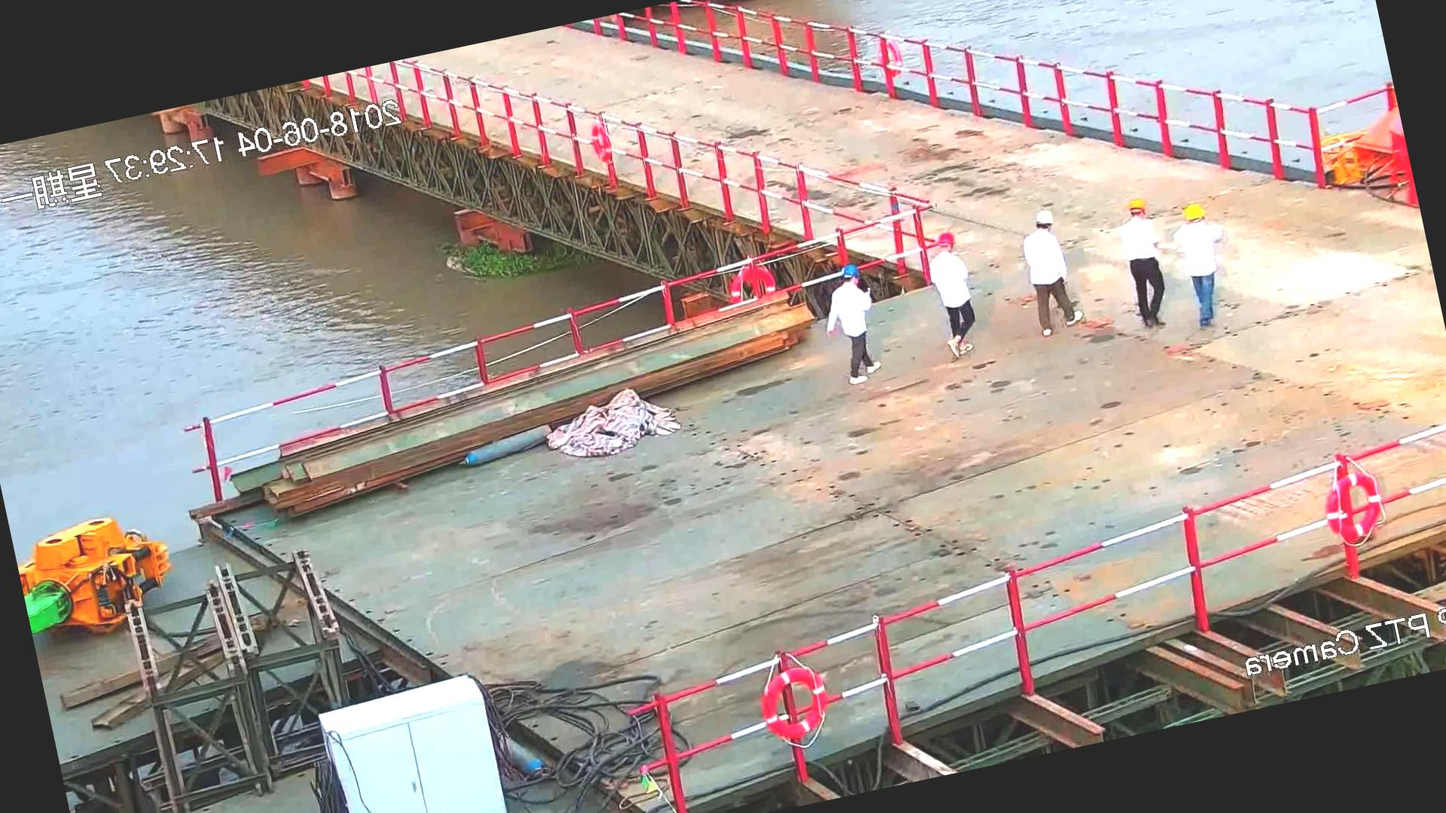helmet: (1116, 185, 1156, 224), (1175, 193, 1213, 232), (1026, 205, 1068, 235), (926, 227, 964, 260)
no_vest: (823, 276, 882, 347), (1014, 228, 1073, 294), (929, 246, 980, 320), (1170, 221, 1225, 286), (1115, 216, 1160, 270)
person: (804, 251, 895, 394), (917, 221, 998, 365), (1006, 203, 1090, 340), (1105, 193, 1177, 331), (1167, 198, 1240, 330)
